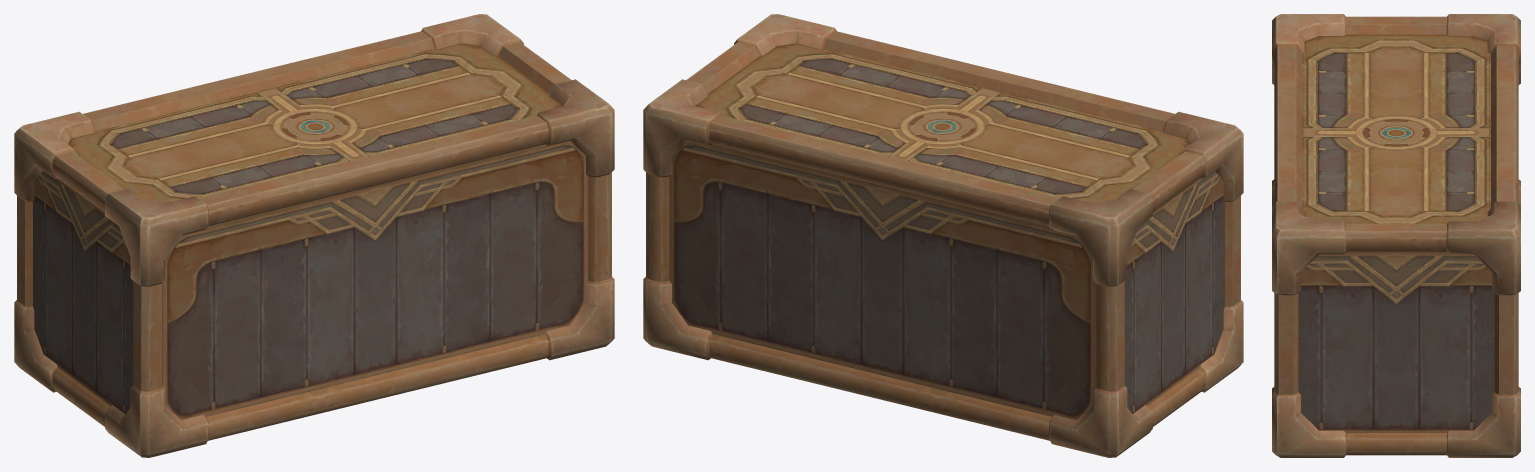
File: Homeworld_Exterior_Fd_Decoration_Prop_JyXiangzi_01_Lod0.fbx
The picture shows the model from 3 angles, left to right: view 1: azimuth 30°, elevation 25°; view 2: azimuth 150°, elevation 25°; view 3: azimuth 270°, elevation 25°; orthographic projection. The views are drawn at different scales.
Visible parts, largest first — view 1: Area_Fd_Prop_SXGC_Xiangzi_03_Lod0; view 2: Area_Fd_Prop_SXGC_Xiangzi_03_Lod0; view 3: Area_Fd_Prop_SXGC_Xiangzi_03_Lod0.
Part boxes in pixels (x1=…): Area_Fd_Prop_SXGC_Xiangzi_03_Lod0: x1=14, y1=14, x2=614, y2=457; Area_Fd_Prop_SXGC_Xiangzi_03_Lod0: x1=643, y1=14, x2=1243, y2=457; Area_Fd_Prop_SXGC_Xiangzi_03_Lod0: x1=1272, y1=14, x2=1520, y2=457.
Size of the model in its own units: 4.62 by 2.23 by 2.21.
